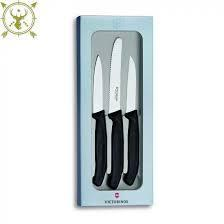Knife: (109, 37, 124, 190), (126, 52, 141, 185), (92, 54, 107, 186)
